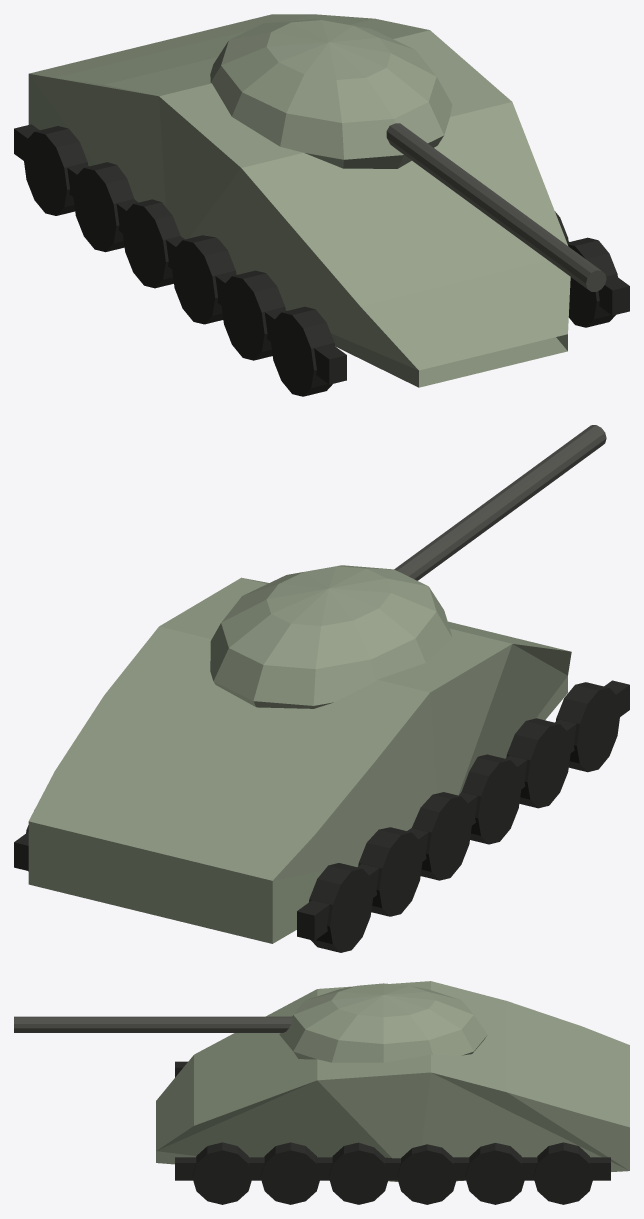
The model's file is m2_bradley.glb.
3 views of the same model, one above another, from view 1: azimuth 30°, elevation 25°; view 2: azimuth 150°, elevation 25°; view 3: azimuth 270°, elevation 25° (orthographic). The views are drawn at different scales.
Visible parts, largest first — view 1: Hull, Turret, Gun, Wheel_L_01, Wheel_L_06, Wheel_L_02, Wheel_L_03, Wheel_L_05, Wheel_L_04, Track_L, Wheel_R_01, Track_R; view 2: Hull, Turret, Gun, Wheel_L_06, Wheel_L_02, Wheel_L_01, Wheel_L_05, Wheel_L_03, Wheel_L_04, Track_L; view 3: Hull, Turret, Gun, Wheel_R_01, Wheel_R_06, Wheel_R_02, Wheel_R_05, Wheel_R_03, Wheel_R_04, Track_R.
Part boxes in pixels (x1,y1,x2,y2): Hull: (28, 14, 570, 387); Turret: (210, 19, 452, 168); Gun: (386, 123, 606, 291); Wheel_L_01: (270, 306, 334, 396); Wheel_L_06: (23, 126, 88, 215); Wheel_L_02: (221, 270, 285, 360); Wheel_L_03: (171, 235, 236, 324); Wheel_L_05: (73, 162, 134, 252); Wheel_L_04: (122, 199, 180, 288); Track_L: (14, 124, 346, 384); Wheel_R_01: (567, 237, 617, 327); Track_R: (566, 239, 629, 315); Hull: (28, 577, 571, 943); Turret: (210, 565, 452, 708); Gun: (394, 425, 606, 580); Wheel_L_06: (309, 863, 373, 952); Wheel_L_02: (506, 718, 570, 808); Wheel_L_01: (556, 682, 620, 772); Wheel_L_05: (358, 827, 422, 916); Wheel_L_03: (461, 754, 521, 844); Wheel_L_04: (412, 792, 472, 880); Track_L: (297, 680, 629, 940); Hull: (156, 981, 629, 1181); Turret: (279, 983, 487, 1062); Gun: (14, 1016, 292, 1032); Wheel_R_01: (192, 1142, 252, 1204); Wheel_R_06: (533, 1142, 593, 1204); Wheel_R_02: (260, 1142, 320, 1204); Wheel_R_05: (465, 1143, 525, 1204); Wheel_R_03: (329, 1142, 388, 1204); Wheel_R_04: (397, 1144, 457, 1204); Track_R: (175, 1157, 610, 1180).
Bounding box in the file's own units: 3.33 × 2.38 × 8.39.
